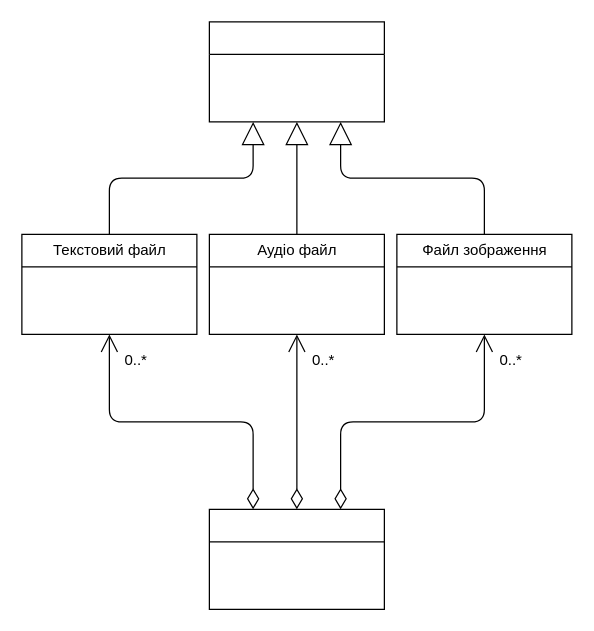
This 594x631 diagram has some shape labels left out. The shapes that lost their labels are listed below. From the top down, each one's box as (x1, y1, x2, y2) in pixels, then its label:
(208, 21, 384, 122): Файл
(208, 508, 384, 609): Директорія
